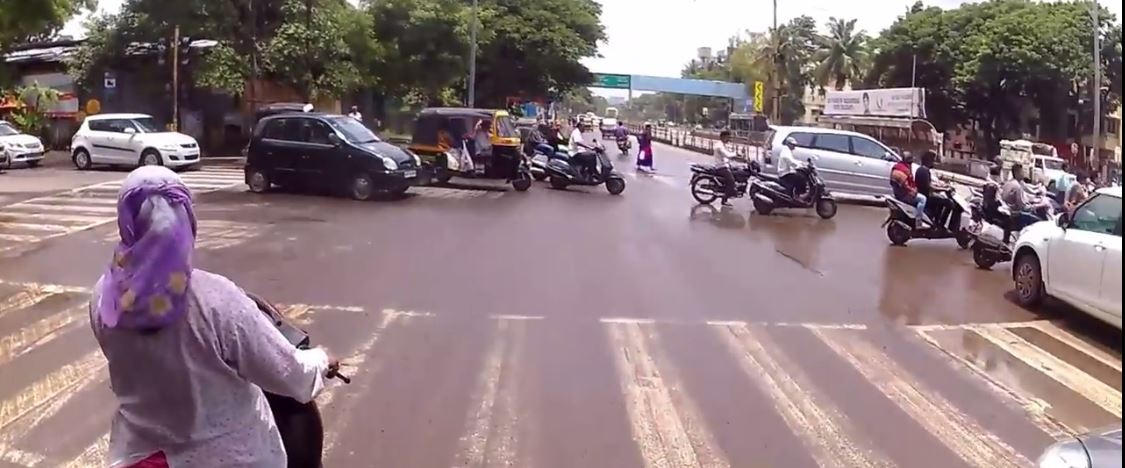autorickshaw: (407, 100, 541, 196)
car: (239, 102, 421, 220), (1009, 179, 1125, 326), (759, 116, 904, 211), (66, 102, 206, 172), (1, 114, 49, 182)
